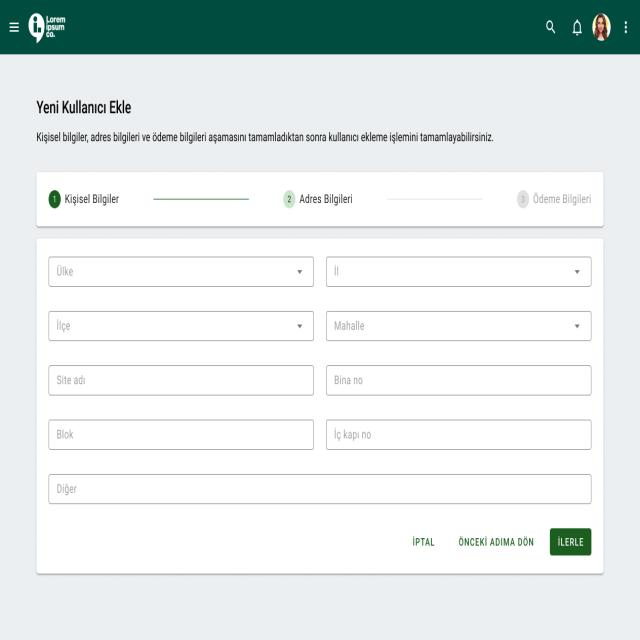QLabel: (36, 130, 494, 145), (34, 97, 132, 117), (458, 536, 534, 548), (556, 534, 584, 548), (410, 535, 437, 548)
VAppBar: (0, 0, 640, 53)
VAvatar: (592, 14, 612, 42)
VBtn: (454, 527, 539, 556), (548, 526, 593, 558), (403, 527, 446, 555)
VCard: (36, 238, 604, 576)
VCombobox: (48, 309, 315, 343), (326, 255, 592, 289), (47, 255, 315, 288), (325, 310, 593, 343)
VIcon: (571, 19, 584, 38), (544, 19, 556, 36), (8, 19, 20, 34), (622, 19, 630, 36)
VImg: (26, 10, 68, 48)
VStepper: (37, 172, 603, 228)
VTextField: (48, 472, 592, 506), (47, 363, 315, 398), (324, 417, 592, 452), (325, 363, 592, 398), (47, 418, 315, 452)
